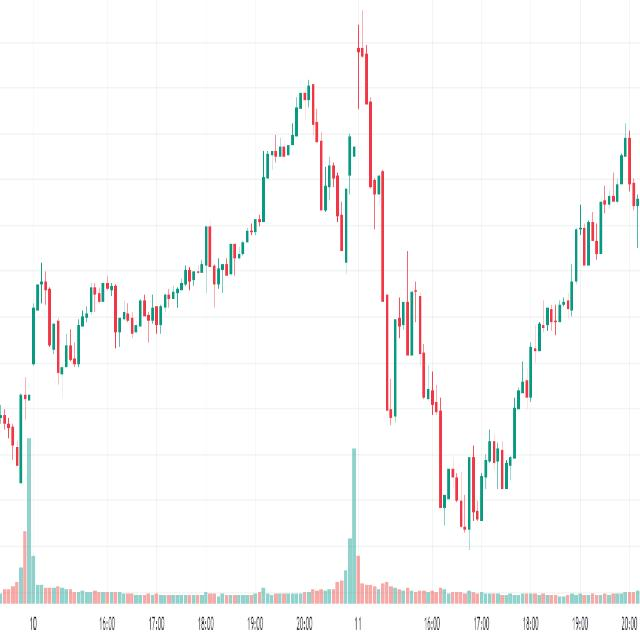Channel-up: (446, 95, 639, 591)
